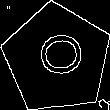O_W: (30, 35, 84, 83)
